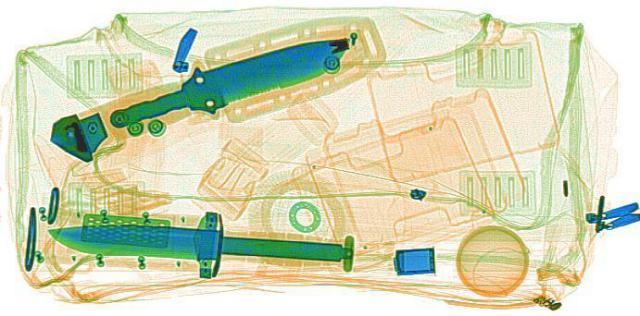Knife: (75, 20, 378, 139), (36, 203, 357, 284)
